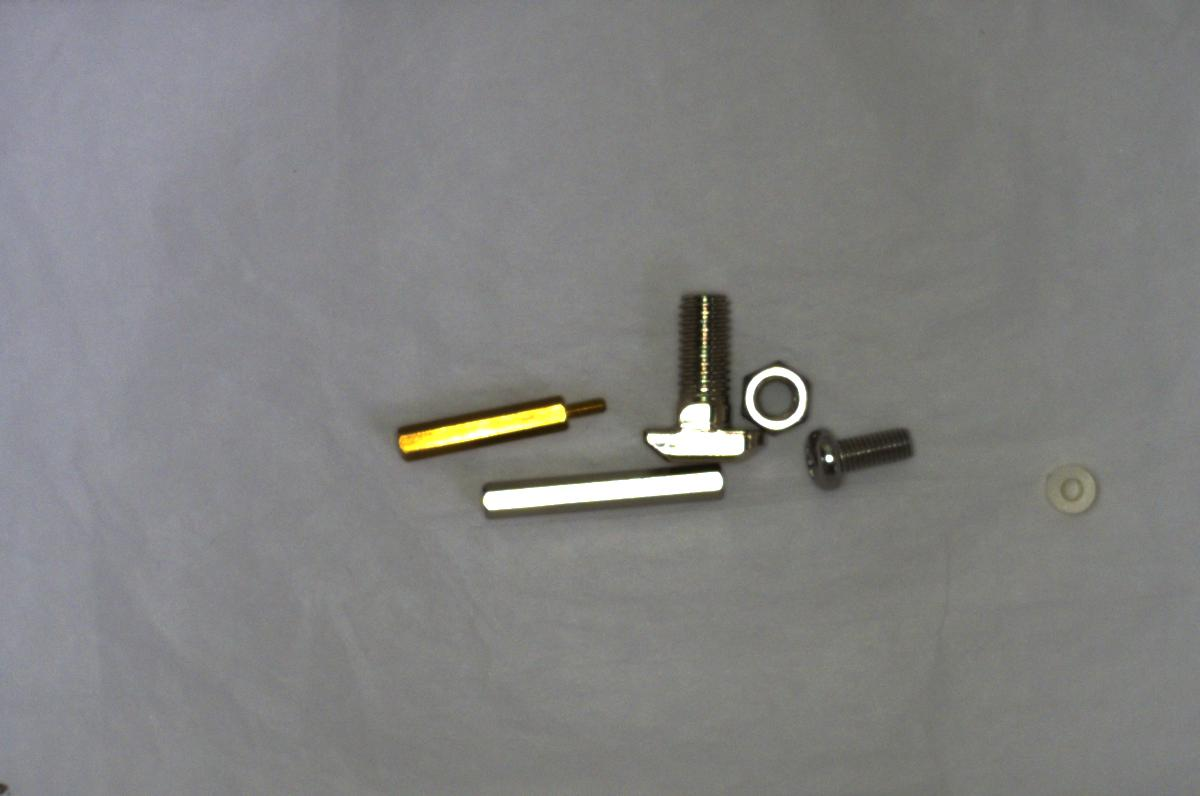Double hexagonal column: (478, 463, 735, 520)
Hexagon nut: (733, 356, 811, 438)
Hexagon pillar: (384, 385, 619, 458)
Plastic cushion pillar: (1038, 453, 1107, 519)
Round head screw: (799, 422, 920, 495)
T-shaped screw: (633, 281, 761, 459)
